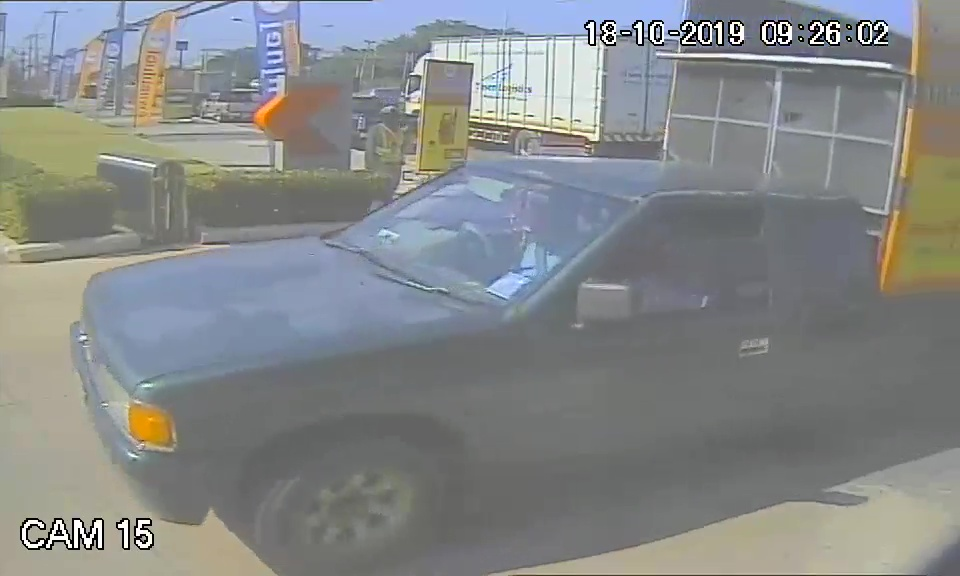pickup: (77, 157, 960, 524)
